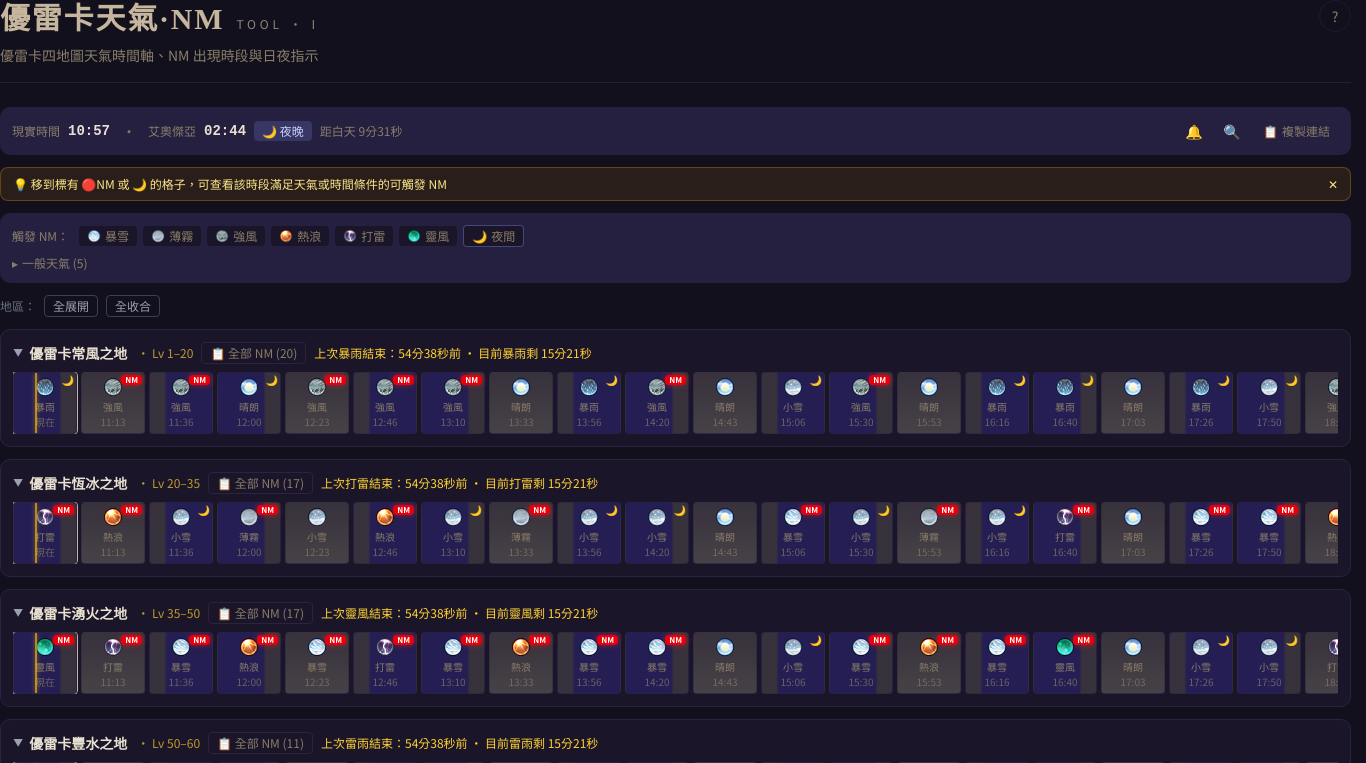
it: EurekaWeatherPage › opens HelpModal when help button is clicked
The width and height of the screenshot is (1366, 763).
Click the button named "說明": coordinates (1335, 16) [1319,0,1351,32]
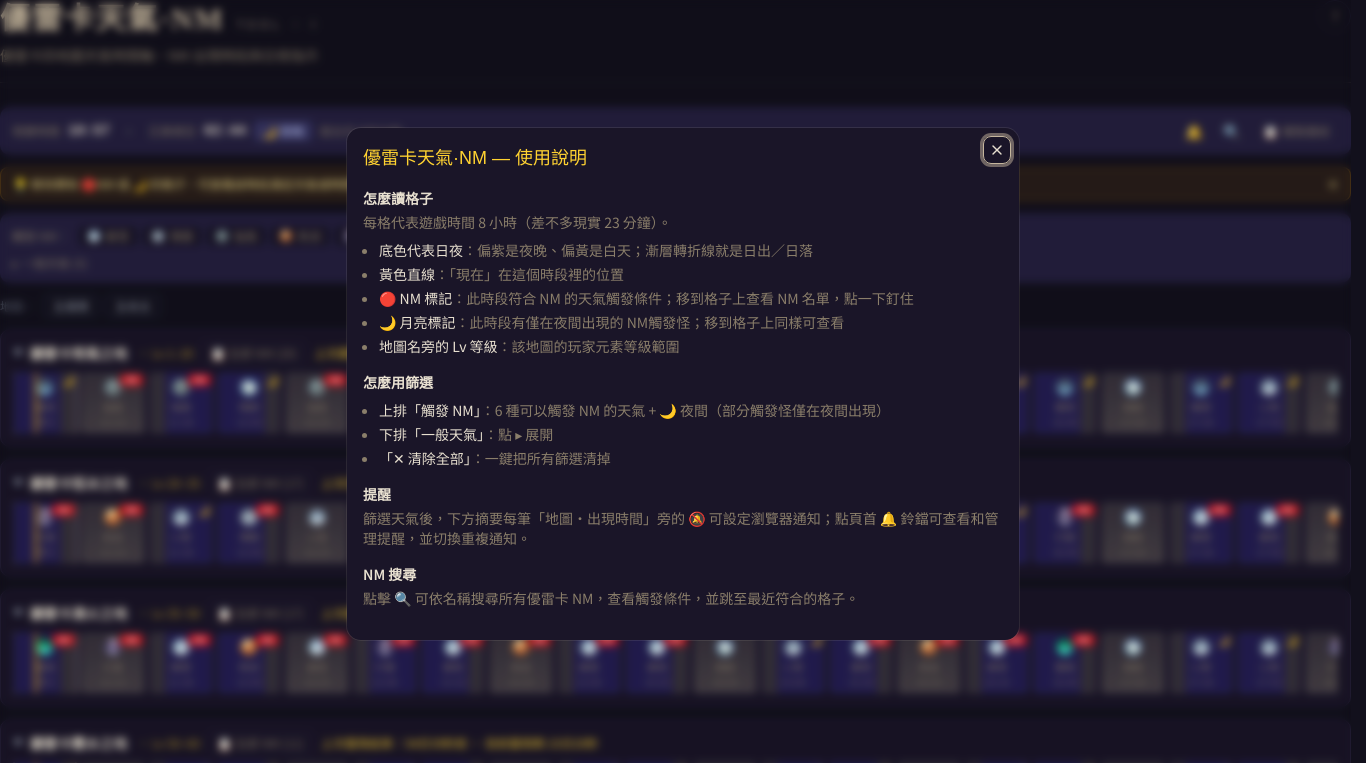
Now the heading "怎麼讀格子" is shown, box [363,188,433,208]
